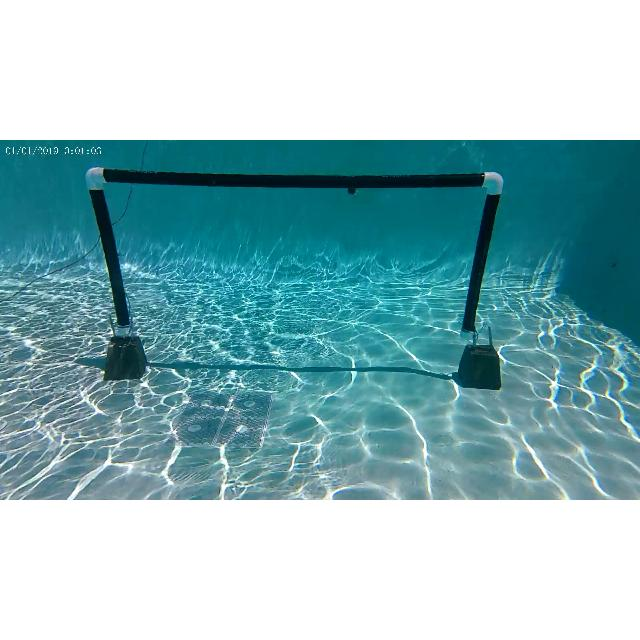prequal gate: (84, 166, 506, 337)
prequal gate leg l: (77, 163, 146, 341)
prequal gate leg r: (460, 163, 502, 343)
